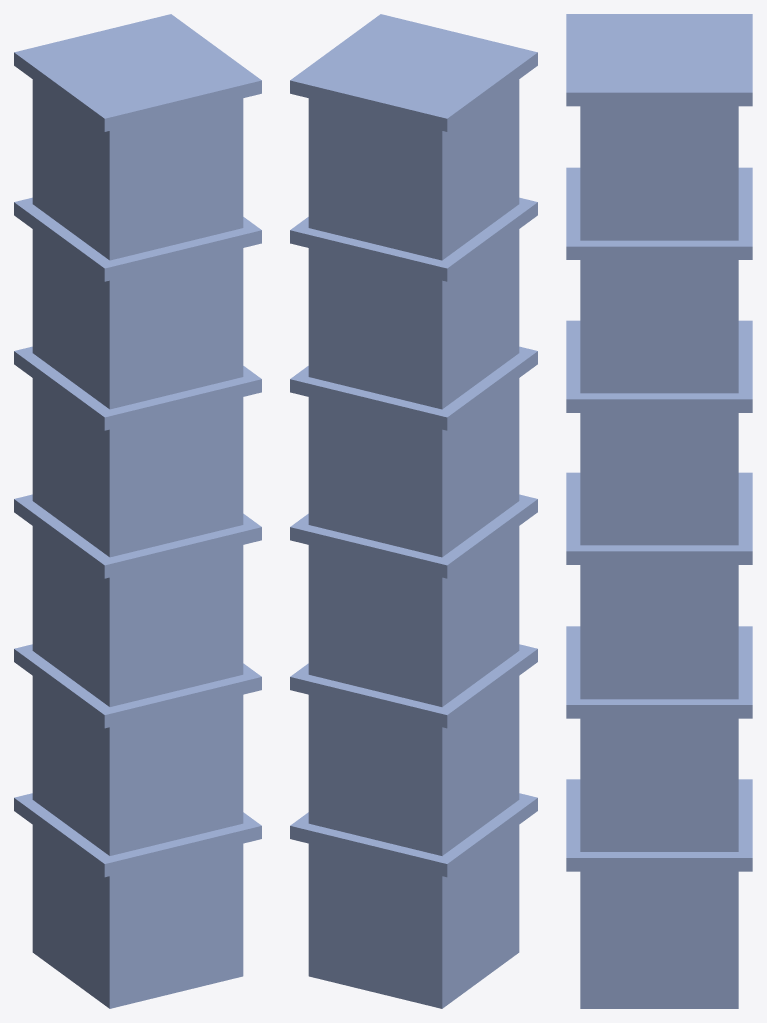
Rendered from duct placeholder.fbx.
The picture shows the model from 3 angles, left to right: view 1: azimuth 30°, elevation 25°; view 2: azimuth 150°, elevation 25°; view 3: azimuth 270°, elevation 25°; orthographic projection. The views are drawn at different scales.
Visible parts, largest first — view 1: Cube; view 2: Cube; view 3: Cube.
Boxes of the visible parts, x1,y1,x2,y2 form: Cube: (14,14,261,1008); Cube: (290,14,537,1008); Cube: (566,14,752,1008).
Size of the model in its own units: 236 by 1287 by 236.
